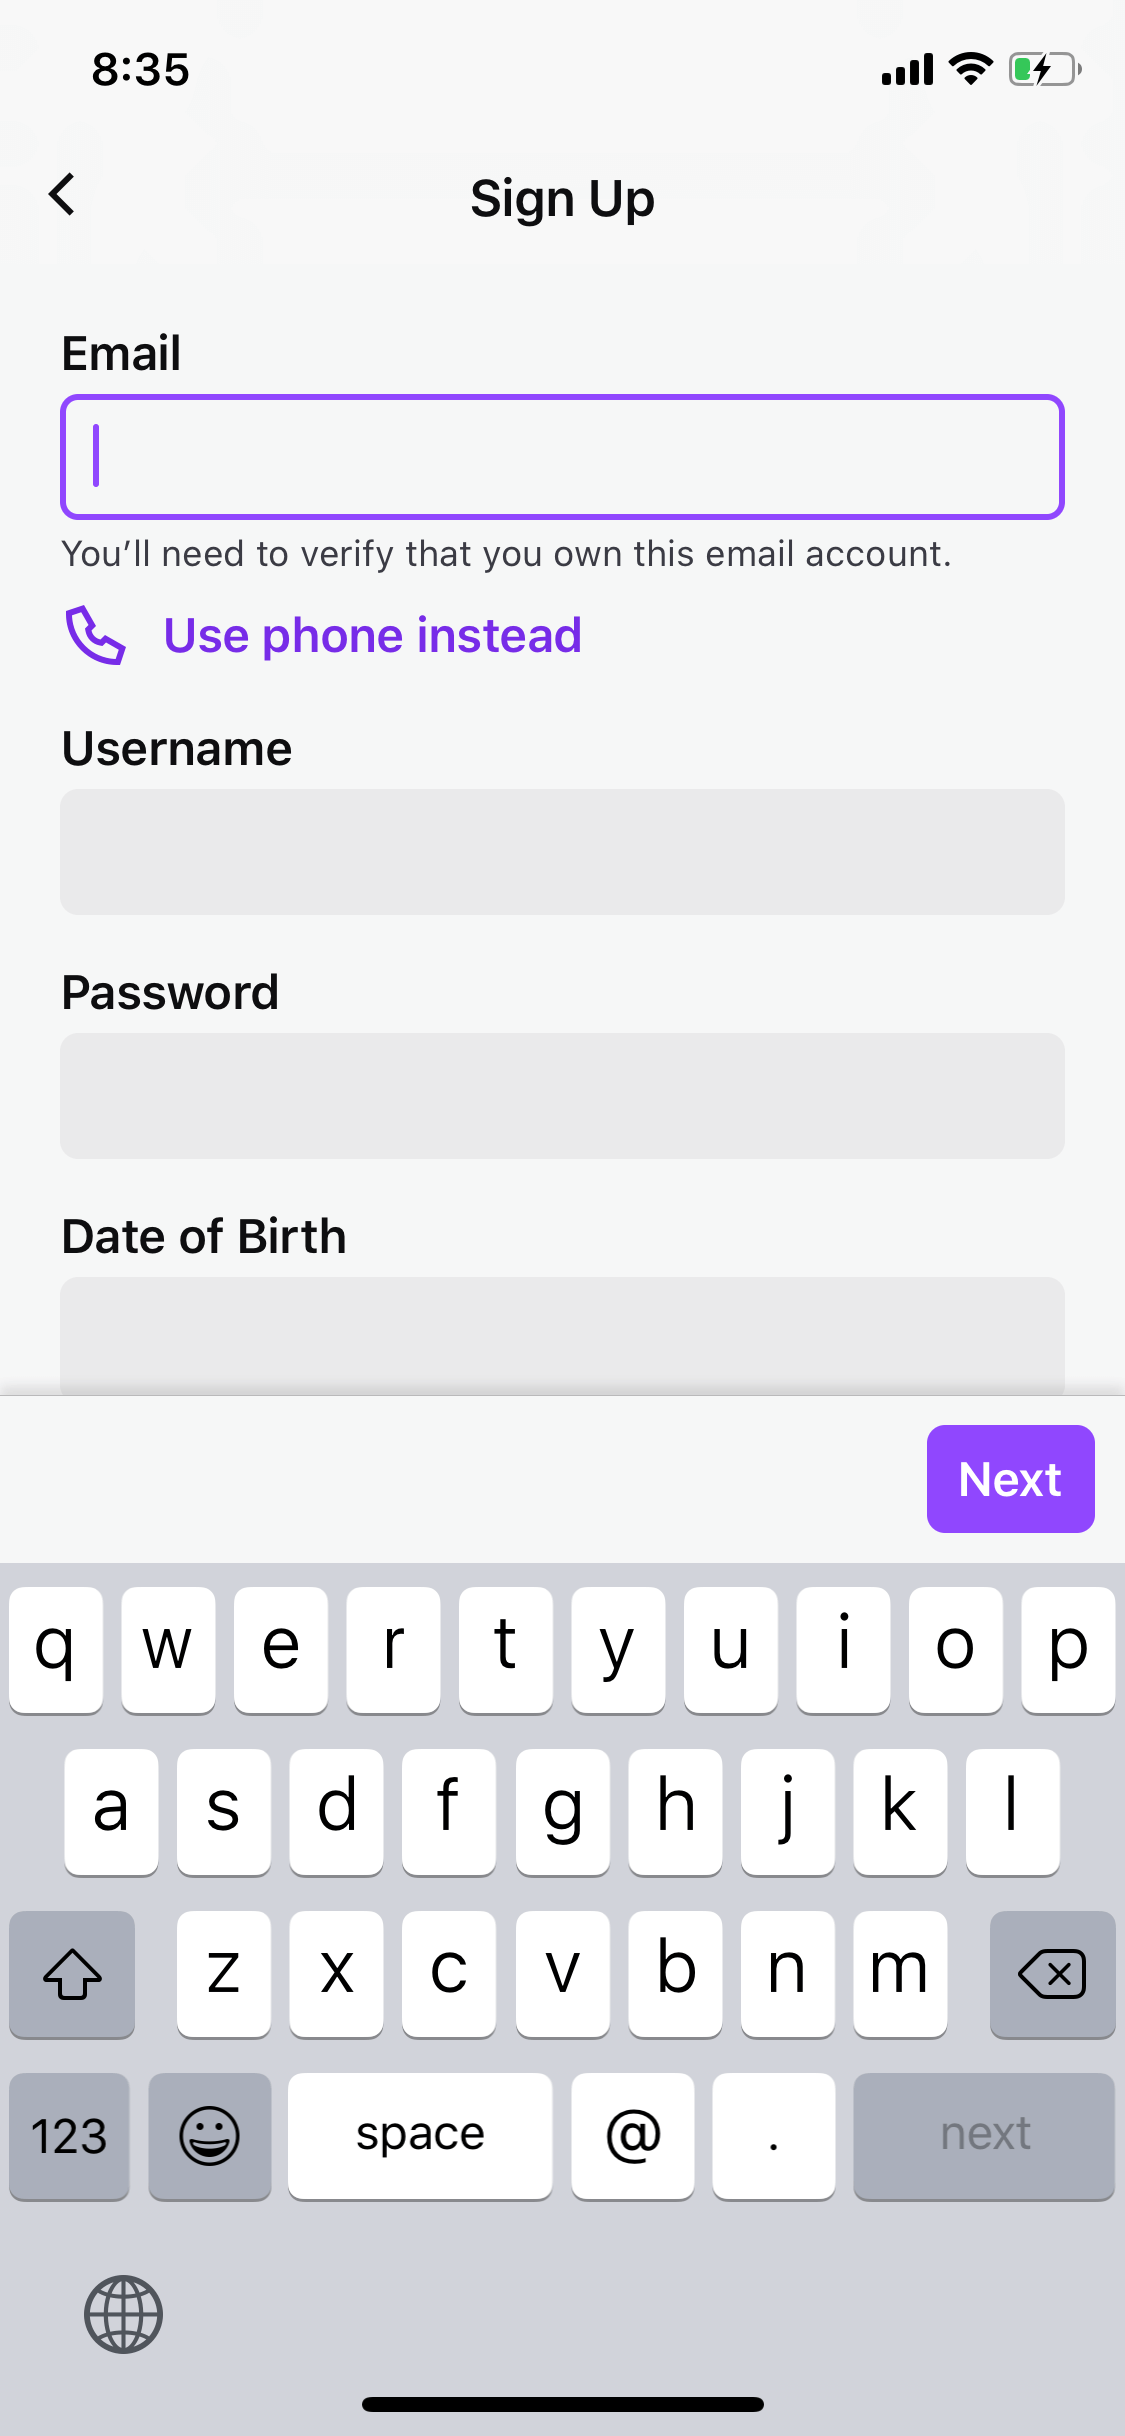Buttons: (900, 1406, 1113, 1547), (6, 127, 126, 252)
Text Fields: (30, 295, 1075, 584), (42, 705, 1077, 943), (51, 955, 1077, 1195), (53, 1210, 1074, 1404)
